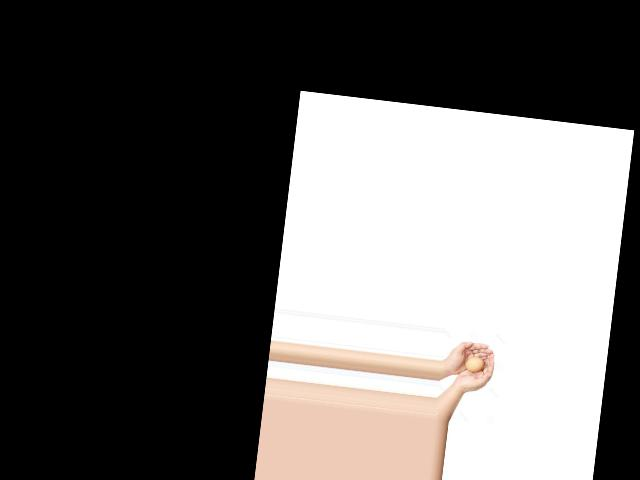egg: (464, 356, 483, 373)
